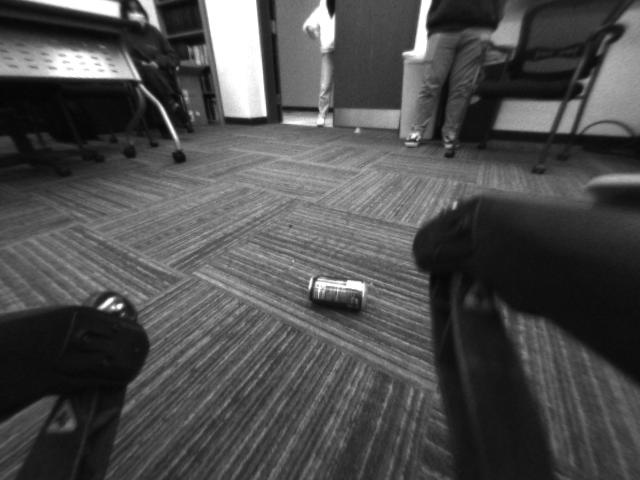can: (301, 271, 379, 316)
